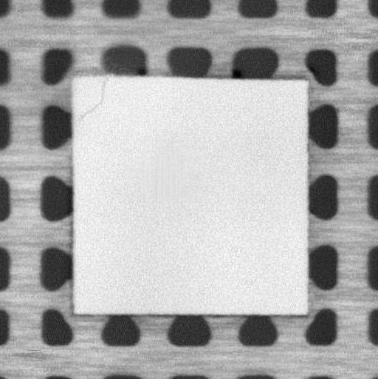DIE_CRACK: (77, 76, 111, 122)
